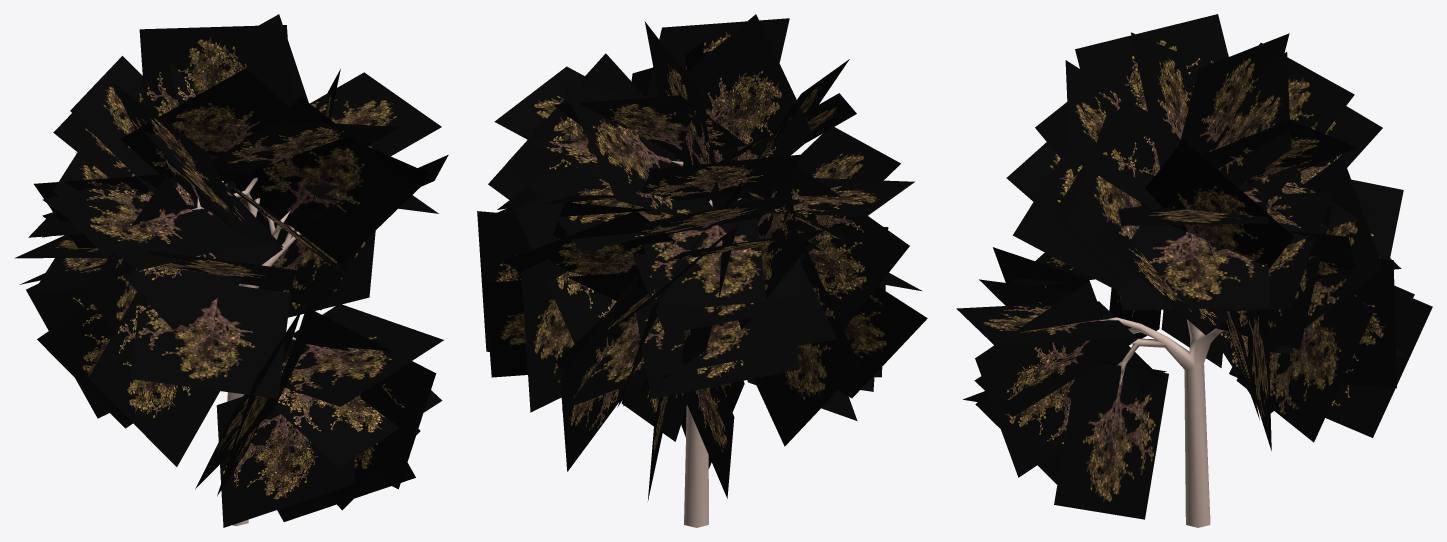
File: tree47.glb
3 renders of one model, left to right at view 1: azimuth 30°, elevation 25°; view 2: azimuth 150°, elevation 25°; view 3: azimuth 270°, elevation 25°, orthographic. The views are drawn at different scales.
Size of the model in its own units: 6.03 by 7.13 by 6.45.
2 materials, 1 textured.
